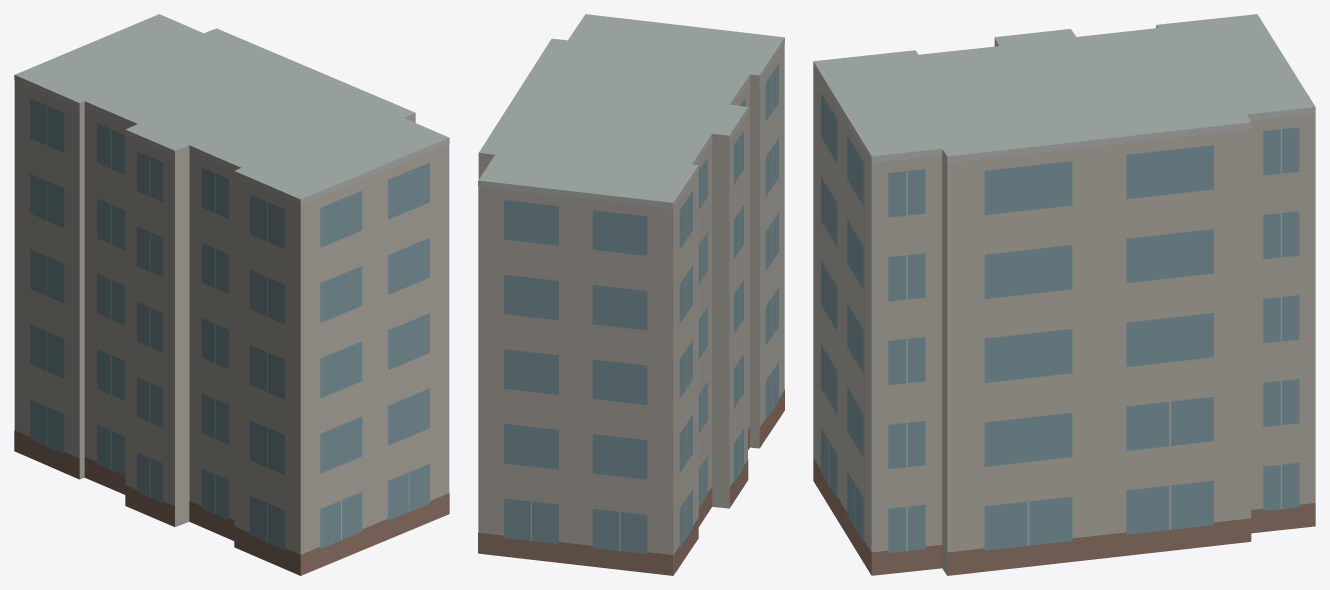
The model's file is survey-upis-32715359.glb.
The picture shows the model from 3 angles, left to right: view 1: azimuth 30°, elevation 25°; view 2: azimuth 150°, elevation 25°; view 3: azimuth 270°, elevation 25°; orthographic projection. The views are drawn at different scales.
Visible parts, largest first — view 1: survey-upis-32715359.tmp; view 2: survey-upis-32715359.tmp; view 3: survey-upis-32715359.tmp.
Boxes of the visible parts, box(x1,y1,x2,y2) form: survey-upis-32715359.tmp: box(14, 14, 449, 575); survey-upis-32715359.tmp: box(478, 14, 784, 575); survey-upis-32715359.tmp: box(813, 14, 1315, 575).
Size of the model in its own units: 11.12 by 15.25 by 16.56.
